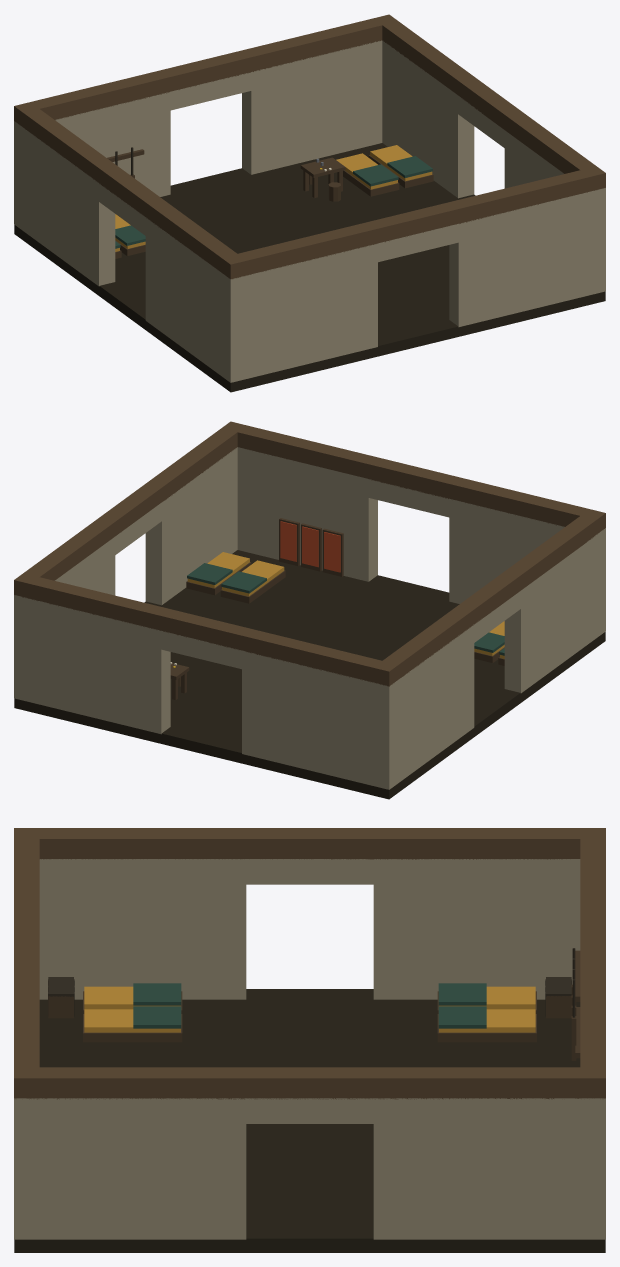
Rendered from LateHandgunnerBarracks.fbx.
3 renders of one model, top to bottom at view 1: azimuth 30°, elevation 25°; view 2: azimuth 150°, elevation 25°; view 3: azimuth 270°, elevation 25°, orthographic. The views are drawn at different scales.
Parts seen in each view (by area): view 1: LateHandgunnerBarracks; view 2: LateHandgunnerBarracks; view 3: LateHandgunnerBarracks.
Boxes of the visible parts, bbox=[...] form: LateHandgunnerBarracks: bbox=[14, 14, 605, 392]; LateHandgunnerBarracks: bbox=[14, 421, 605, 799]; LateHandgunnerBarracks: bbox=[14, 828, 605, 1252].
Size of the model in its own units: 1202 by 392 by 1202.
Materials: 11 (11 with a texture image).
